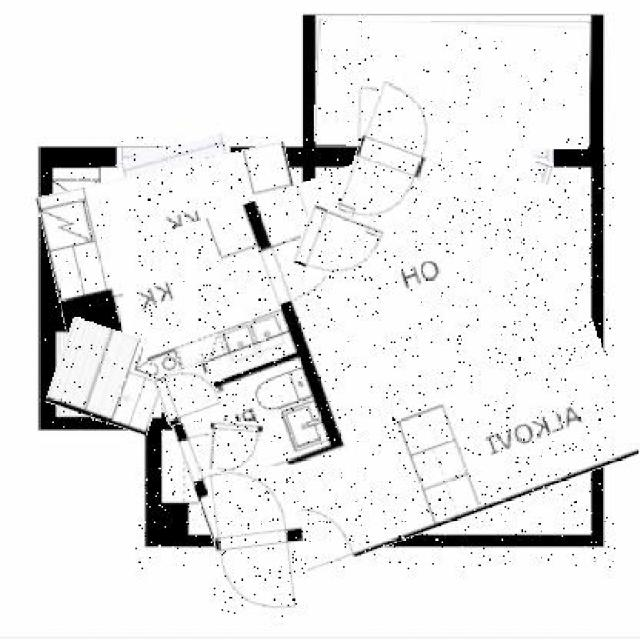door: (210, 468, 308, 617), (346, 84, 436, 230), (296, 210, 382, 284), (157, 365, 218, 423), (209, 422, 262, 471)
window: (423, 134, 555, 175), (118, 140, 230, 172)
zone: (135, 137, 616, 569), (43, 154, 312, 341), (315, 21, 588, 148), (160, 318, 311, 438), (51, 326, 169, 428)
